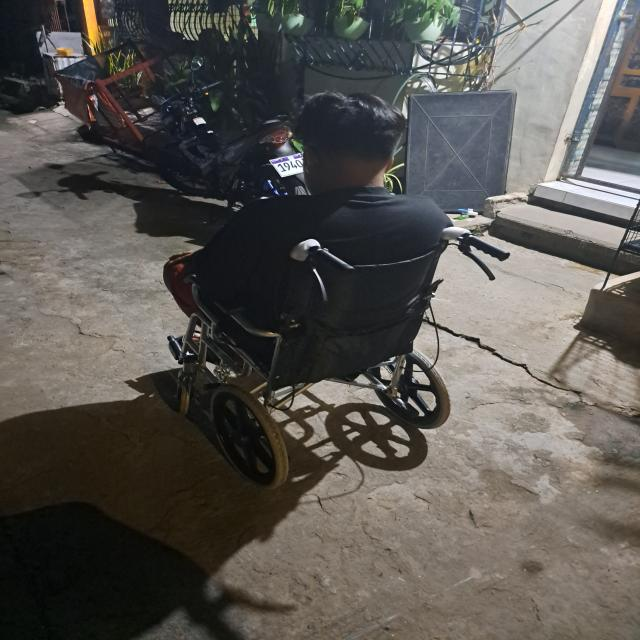wheelchairs: (148, 221, 516, 491)
